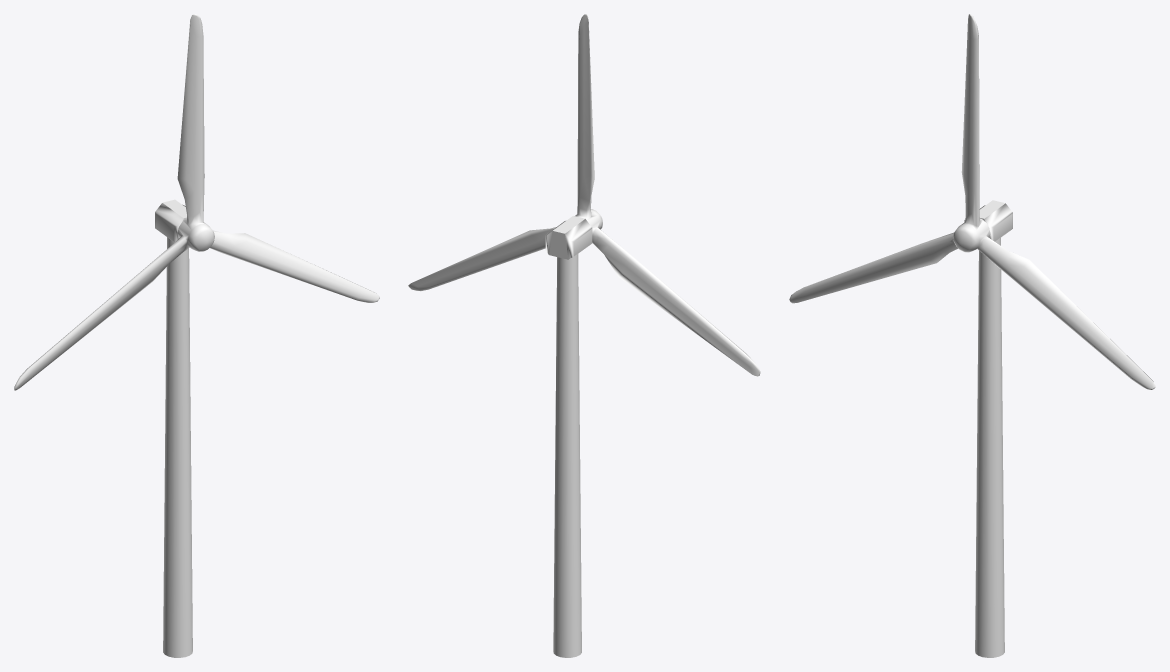
The model's file is wind turbine .fbx.
The picture shows the model from 3 angles, left to right: view 1: azimuth 30°, elevation 25°; view 2: azimuth 150°, elevation 25°; view 3: azimuth 330°, elevation 25°; orthographic projection. The views are drawn at different scales.
Visible parts, largest first — view 1: wind turbine pipe, wind turbine fan; view 2: wind turbine pipe, wind turbine fan; view 3: wind turbine pipe, wind turbine fan.
Boxes of the visible parts, x1,y1,x2,y2 form: wind turbine pipe: (155,199,192,657); wind turbine fan: (14,14,379,390); wind turbine pipe: (545,216,592,657); wind turbine fan: (408,14,760,376); wind turbine pipe: (964,200,1012,657); wind turbine fan: (789,14,1155,389).
Size of the model in its own units: 1169 by 1991 by 213.
